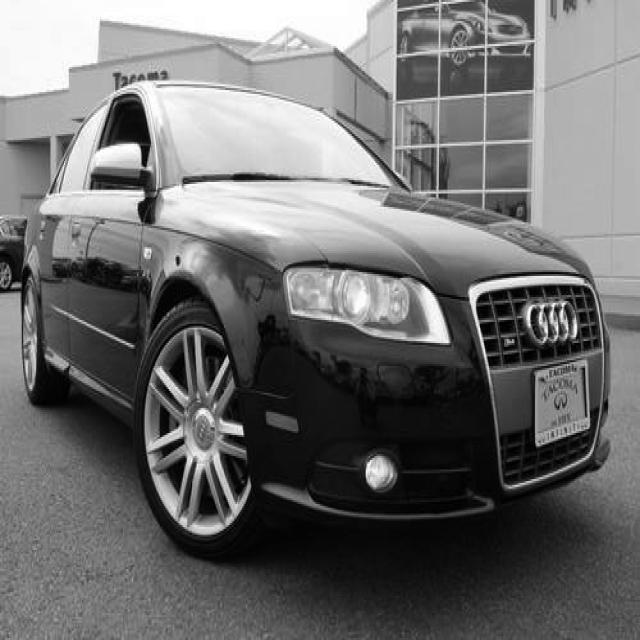car: (19, 77, 612, 560), (397, 0, 532, 69), (0, 213, 27, 291)
